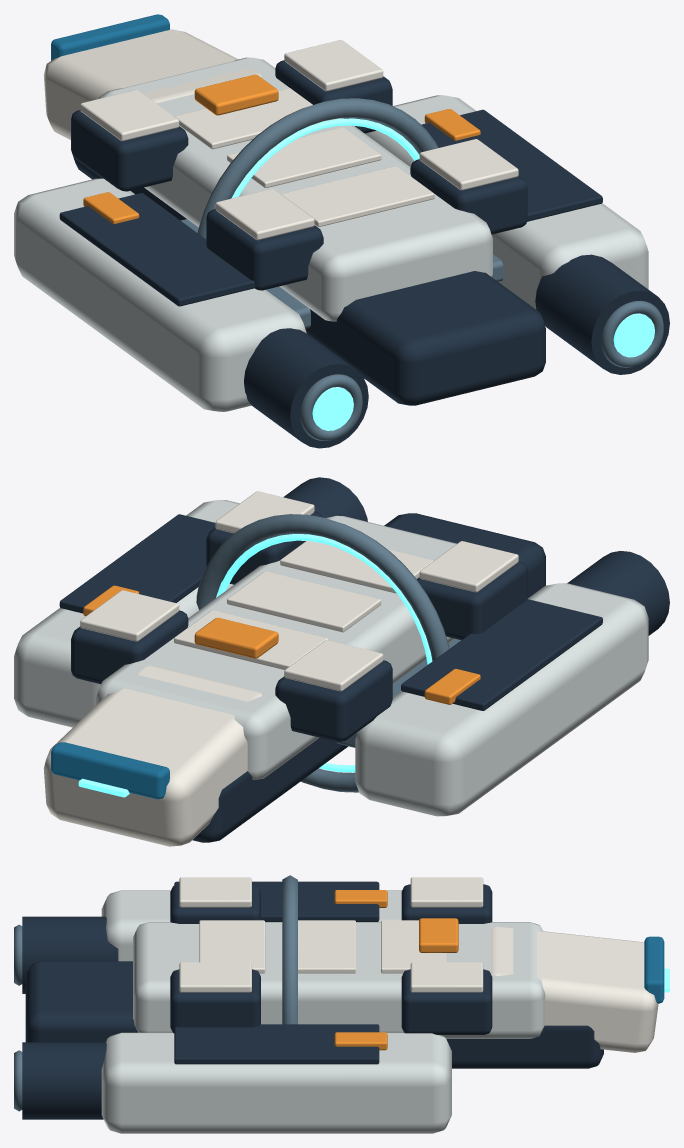
Rendered from ship-advanced.glb.
3 views of the same model, one above another, from view 1: azimuth 30°, elevation 25°; view 2: azimuth 150°, elevation 25°; view 3: azimuth 270°, elevation 25° (orthographic). The views are drawn at different scales.
Parts seen in each view (by area): view 1: service-pod--1, upper-hull, central-keel, service-pod-1, pod-inset--1, command-cabin, engine-1, engine--1, pod-inset-1, integrated-energy-coupler, auxiliary-bay--1--0.7, auxiliary-bay--1-0.7 (+19 smaller); view 2: service-pod--1, command-cabin, upper-hull, pod-inset--1, central-keel, integrated-energy-coupler, service-pod-1, pod-inset-1, auxiliary-bay--1--0.7, spine-panel-1, auxiliary-bay--1-0.7, cabin-visor (+13 smaller); view 3: service-pod-1, upper-hull, central-keel, command-cabin, pod-inset-1, engine-1, auxiliary-bay-1--0.7, engine--1, auxiliary-bay-1-0.7, pod-inset--1, service-pod--1, spine-panel-1 (+15 smaller).
Boxes of the visible parts, <box> form: service-pod--1: <box>14,178,306,411</box>; upper-hull: <box>98,57,492,321</box>; central-keel: <box>73,156,545,405</box>; service-pod-1: <box>365,95,648,309</box>; pod-inset--1: <box>59,193,255,306</box>; command-cabin: <box>43,29,261,139</box>; engine-1: <box>535,254,669,374</box>; engine--1: <box>244,328,368,448</box>; pod-inset-1: <box>421,109,602,221</box>; integrated-energy-coupler: <box>197,98,438,238</box>; auxiliary-bay--1--0.7: <box>71,110,188,191</box>; auxiliary-bay--1-0.7: <box>206,209,323,290</box>; service-pod--1: <box>355,583,648,816</box>; command-cabin: <box>44,665,261,846</box>; upper-hull: <box>96,515,456,779</box>; pod-inset--1: <box>401,599,602,710</box>; central-keel: <box>192,513,545,842</box>; integrated-energy-coupler: <box>196,514,449,792</box>; service-pod-1: <box>14,500,239,727</box>; pod-inset-1: <box>59,514,215,613</box>; auxiliary-bay--1--0.7: <box>275,660,392,741</box>; spine-panel-1: <box>227,571,381,632</box>; auxiliary-bay--1-0.7: <box>417,561,527,640</box>; cabin-visor: <box>51,742,169,799</box>; service-pod-1: <box>101,1032,451,1133</box>; upper-hull: <box>133,922,545,1038</box>; central-keel: <box>25,961,603,1068</box>; command-cabin: <box>491,926,658,1052</box>; pod-inset-1: <box>174,1024,379,1064</box>; engine-1: <box>22,1042,106,1119</box>; auxiliary-bay-1--0.7: <box>401,969,492,1034</box>; engine--1: <box>22,916,118,993</box>; auxiliary-bay-1-0.7: <box>170,969,260,1033</box>; pod-inset--1: <box>174,881,379,921</box>; service-pod--1: <box>101,890,401,961</box>; spine-panel-1: <box>298,920,355,973</box>.
Size of the model in its own units: 2.68 by 1.55 by 3.97.
